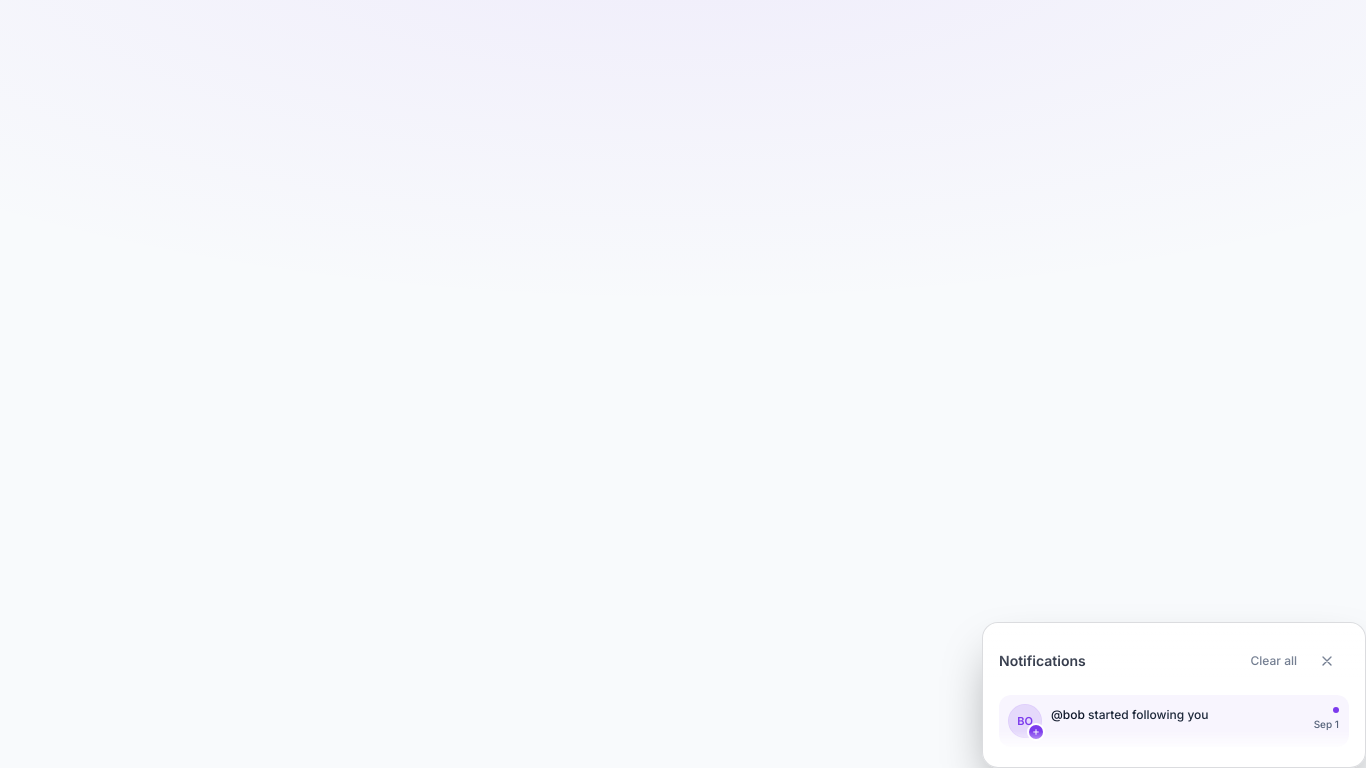
Test: NotificationsBell › clears all notifications
(page scrolled)
Click the button "Clear all".
click(1274, 661)  # box 1250,653 -> 1297,669
(page scrolled)
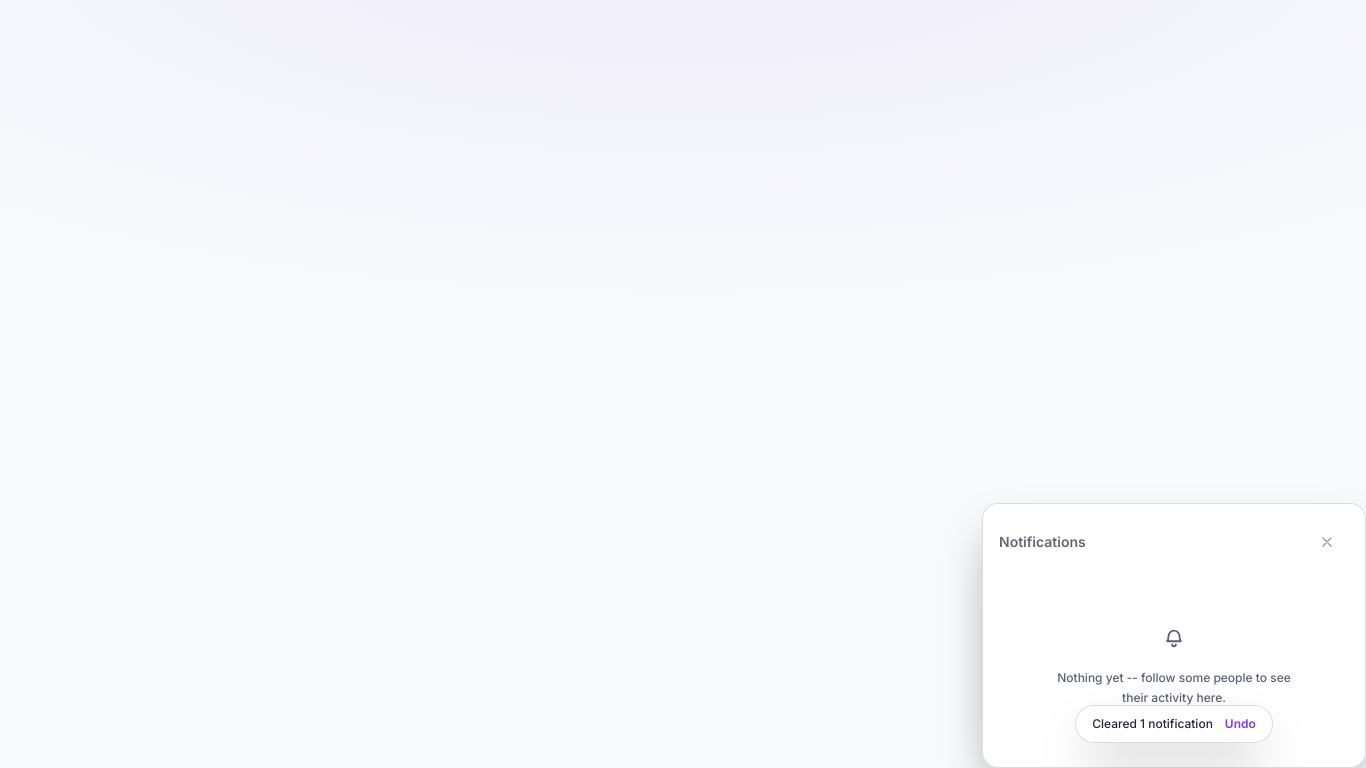
Now the text "Nothing yet -- follow some people to see their activity here." is shown, box 1054,668 -> 1294,707
